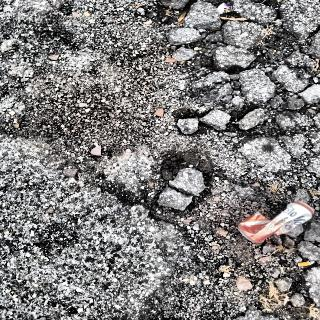alligator-crack: (151, 0, 320, 166)
